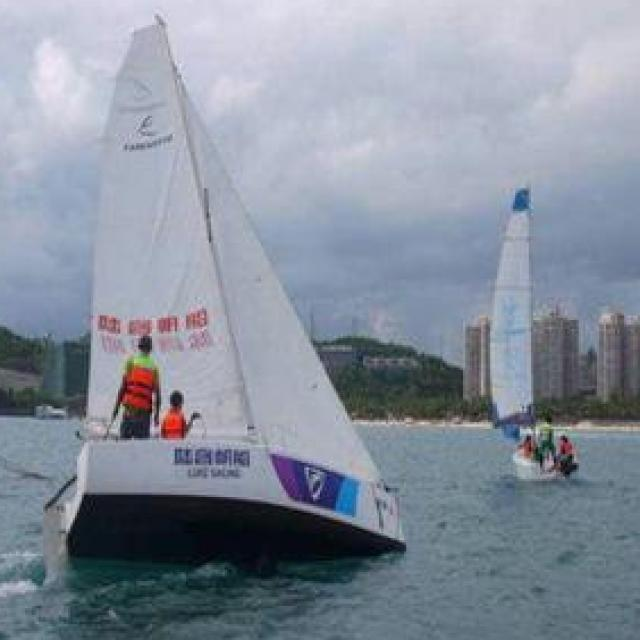sailboat: (59, 14, 425, 550), (468, 147, 596, 488)
